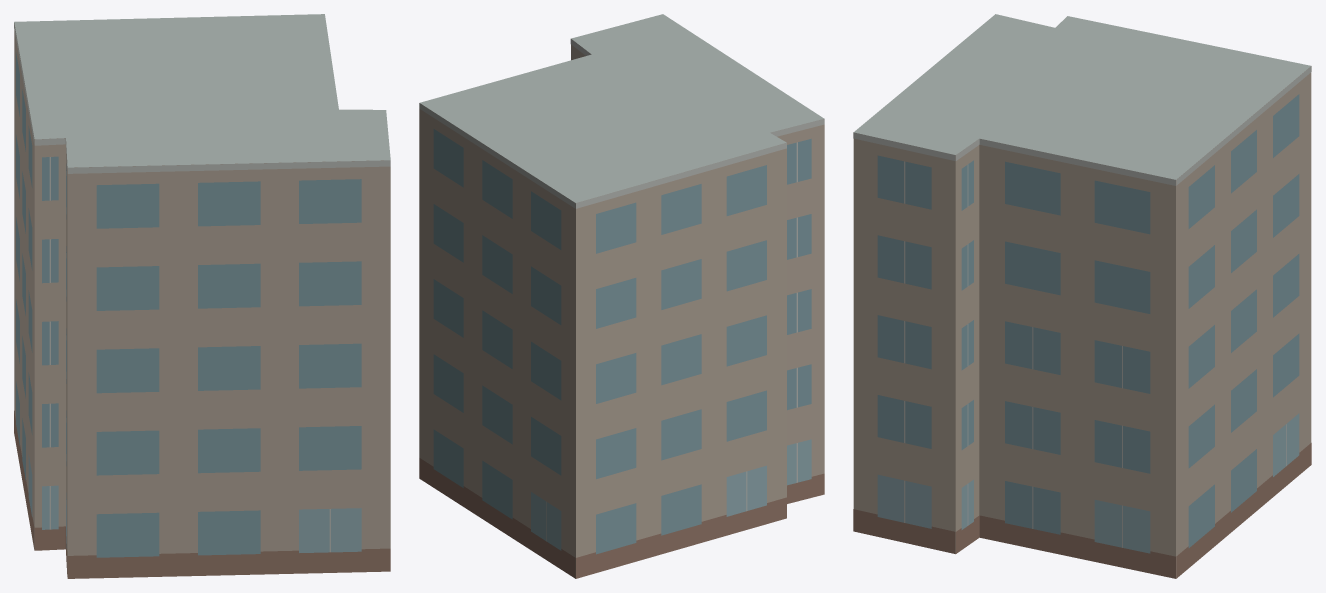
Rendered from survey-upis-32975161.glb.
3 views of the same model, side by side, from view 1: azimuth 30°, elevation 25°; view 2: azimuth 150°, elevation 25°; view 3: azimuth 270°, elevation 25° (orthographic). The views are drawn at different scales.
Visible parts, largest first — view 1: survey-upis-32975161.tmp; view 2: survey-upis-32975161.tmp; view 3: survey-upis-32975161.tmp.
Part boxes in pixels (<box>): survey-upis-32975161.tmp: <box>14,14,390,578</box>; survey-upis-32975161.tmp: <box>419,14,824,578</box>; survey-upis-32975161.tmp: <box>853,14,1311,578</box>.
Bounding box in the file's own units: 14.14 × 15.85 × 16.5.
